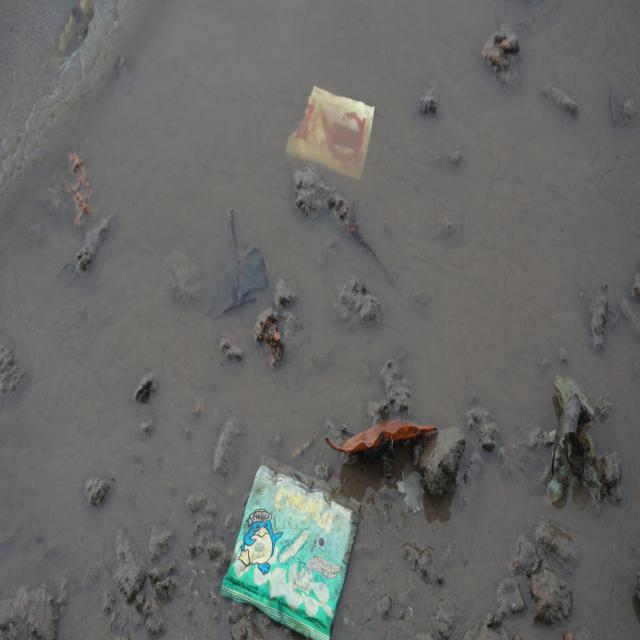Bungkus Makanan: (218, 456, 362, 640)
Bungkus Minuman: (287, 85, 376, 183)
